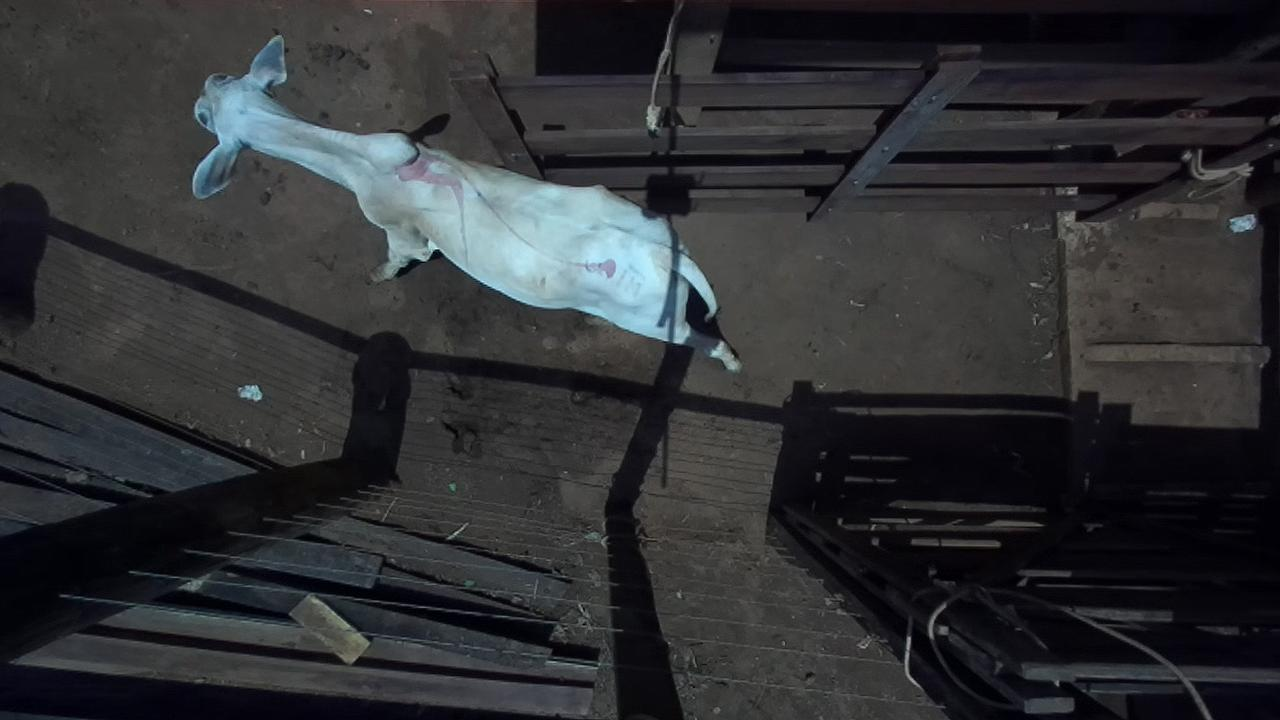cattle: (189, 32, 744, 375)
